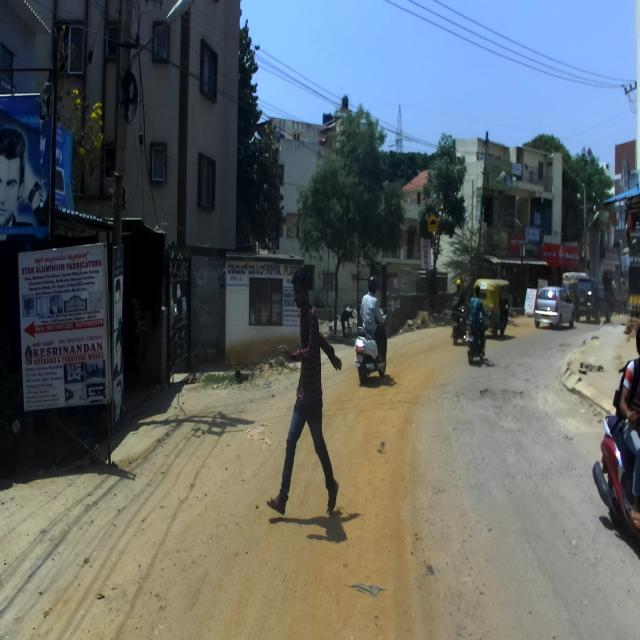motorcycle ahead at: (354, 322, 392, 395)
person ahead at: (272, 265, 342, 527)
